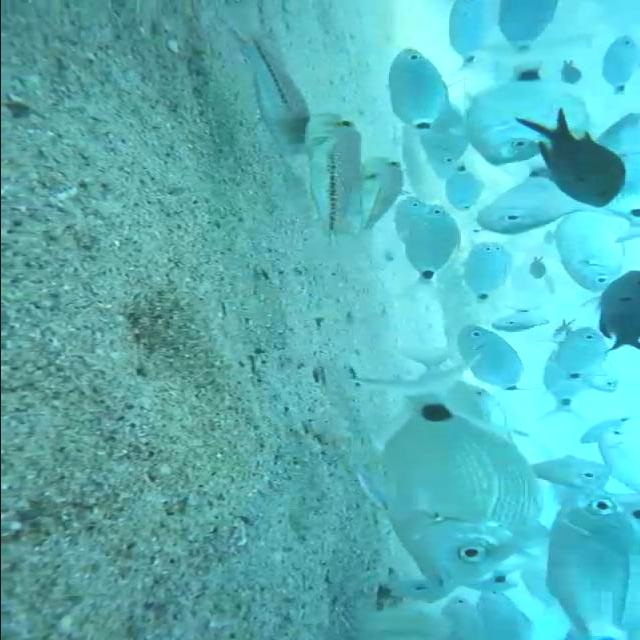Balon Baligi: (304, 113, 362, 248), (246, 34, 310, 154), (360, 156, 402, 238)
